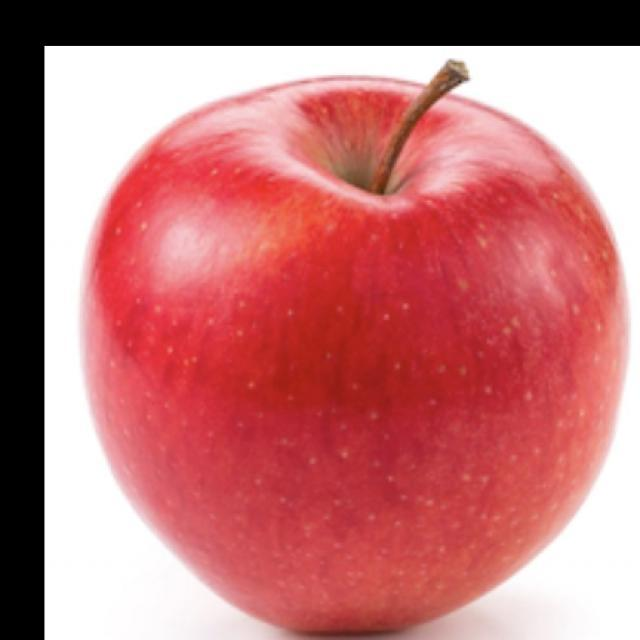Fresh Apple: (69, 76, 631, 640)
